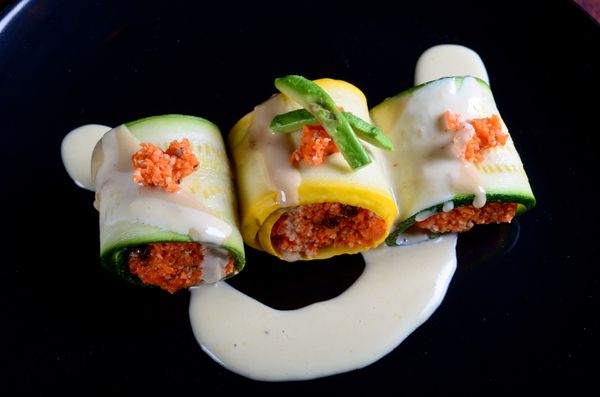soup: (230, 63, 537, 261), (60, 113, 247, 296)
